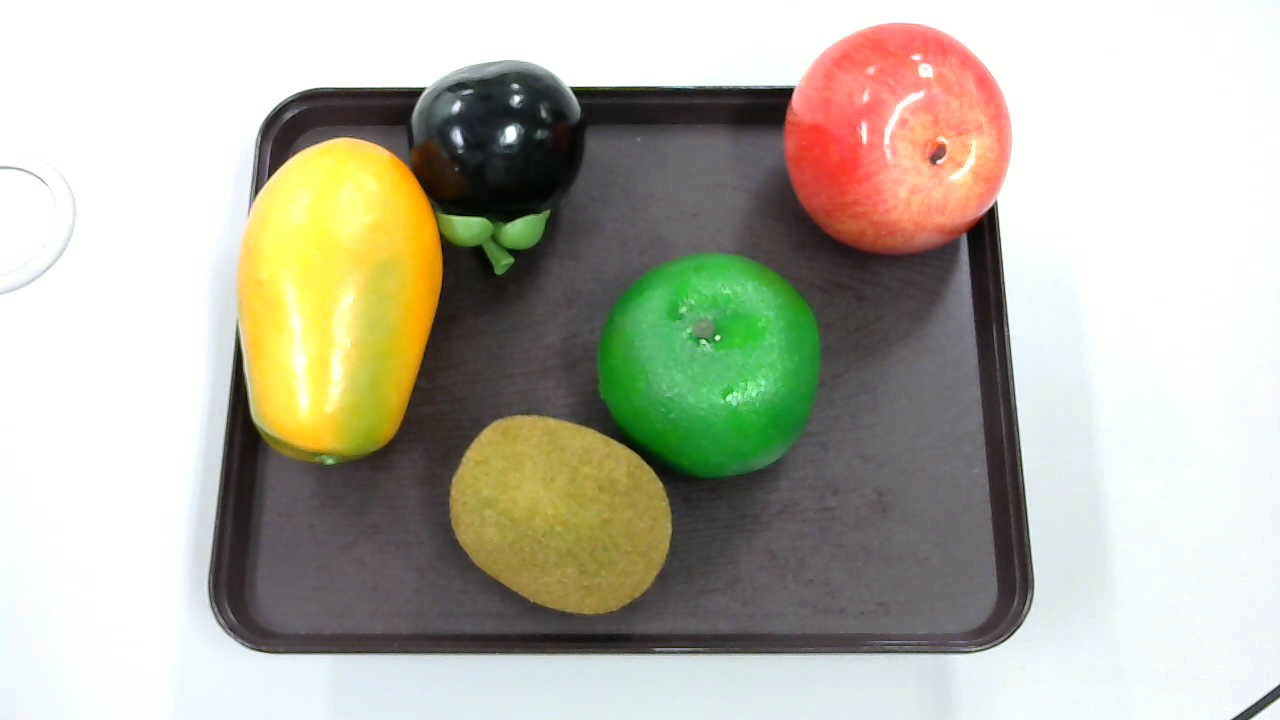green orange: (596, 249, 830, 477)
kiwi fruit: (447, 414, 673, 613)
mangosteen: (403, 62, 587, 281)
papya: (233, 135, 442, 460)
red apple: (780, 21, 1014, 255)
